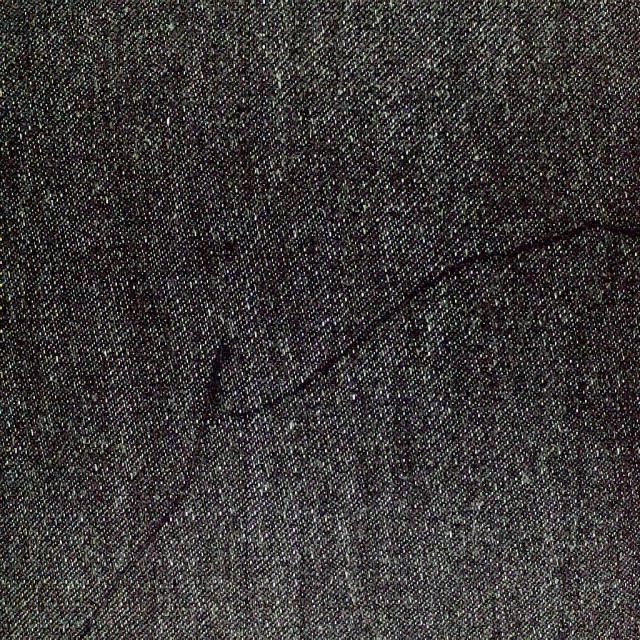defect: (76, 214, 640, 635)
